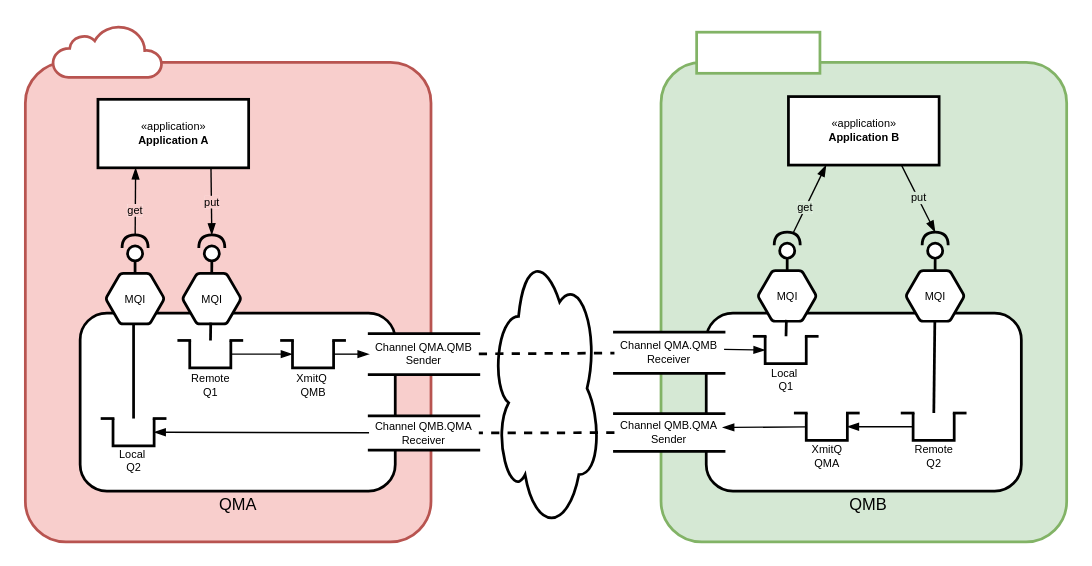
Image size: 1092x566. Some labels were removed from this diagram. The shapes that lost their labels are listed below. From the top down, each one's box as (x1, y1, x2, y2) in pixels, then its label:
(51, 23, 163, 78): Treasury
(695, 30, 821, 74): IHS Markit
(489, 242, 601, 533): Network
